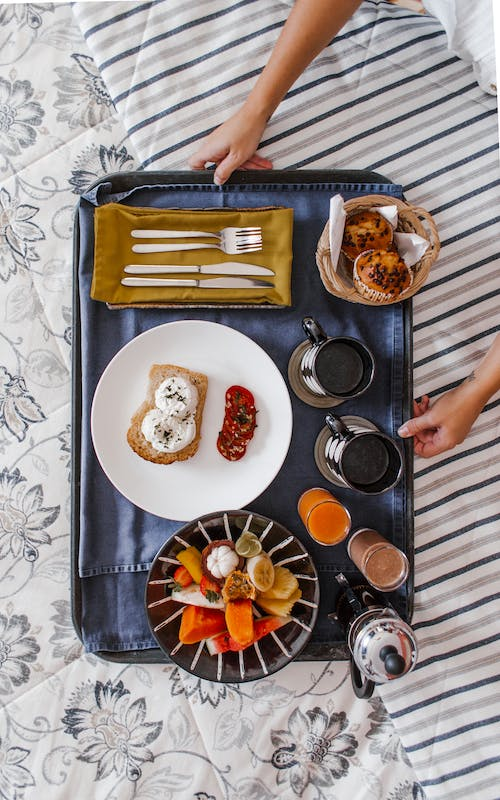knife: (120, 275, 277, 292), (122, 260, 278, 277)
